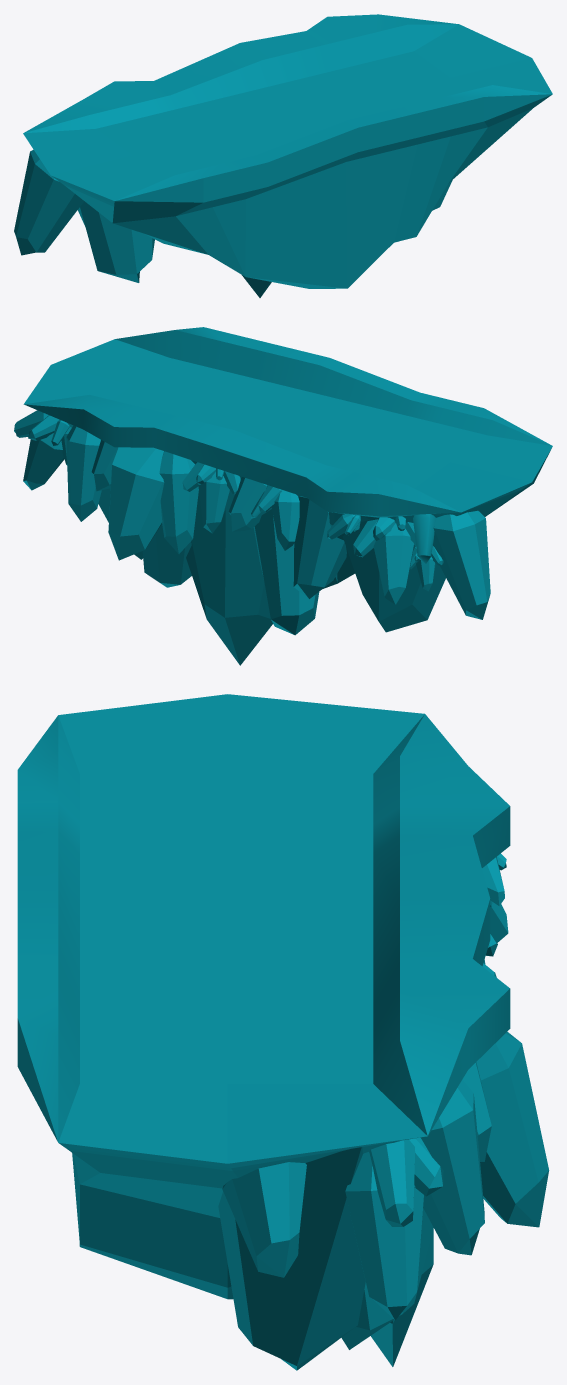
Rendered from Floating_Platform_Med.fbx.
3 renders of one model, top to bottom at view 1: azimuth 30°, elevation 25°; view 2: azimuth 150°, elevation 25°; view 3: azimuth 270°, elevation 25°, orthographic. The views are drawn at different scales.
Visible parts, largest first — view 1: Med_Platform_Combined; view 2: Med_Platform_Combined; view 3: Med_Platform_Combined.
Boxes of the visible parts, left/top/right/bottom form: Med_Platform_Combined: left=14, top=14, right=552, bottom=297; Med_Platform_Combined: left=14, top=327, right=552, bottom=665; Med_Platform_Combined: left=17, top=694, right=549, bottom=1370.
Bounding box in the file's own units: 3.23 × 1.53 × 1.54.
